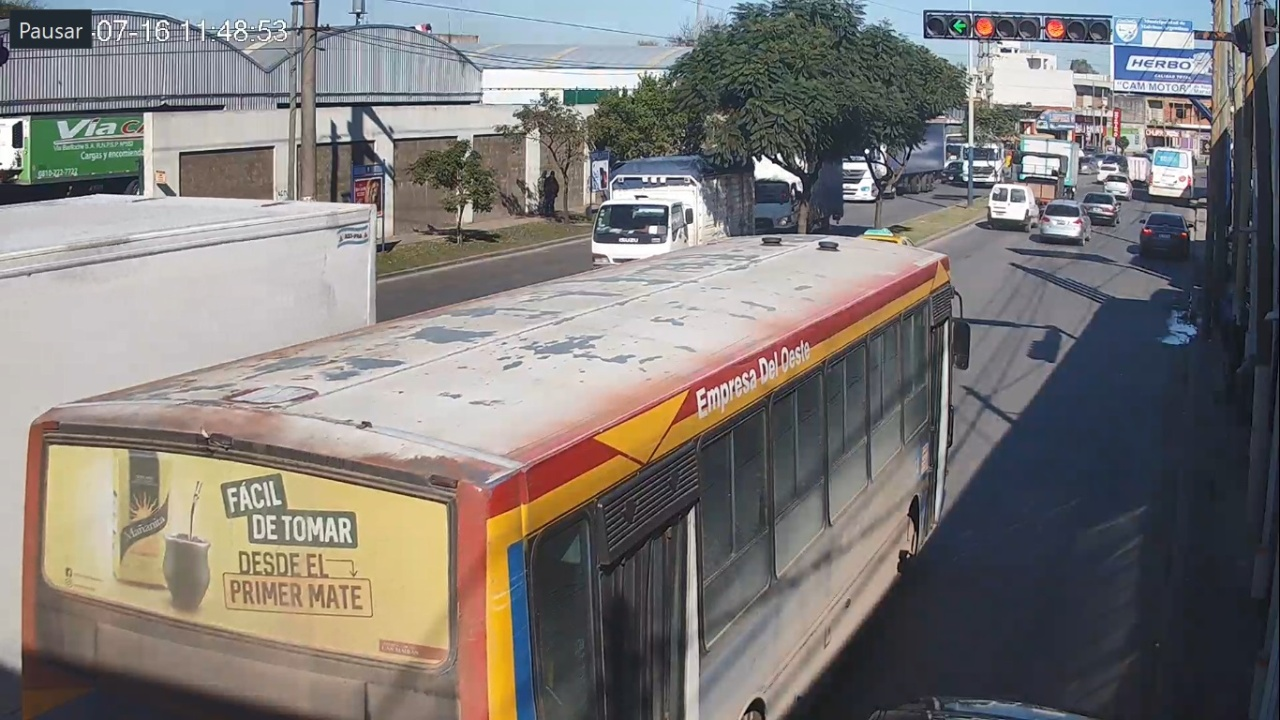bus: (23, 235, 972, 720)
car: (1139, 212, 1193, 258)
traffic light: (974, 14, 1110, 43)
